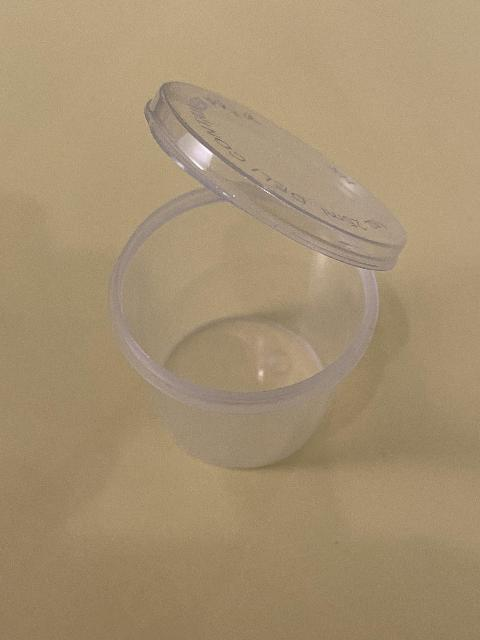plasticcontainer: (104, 78, 408, 474)
